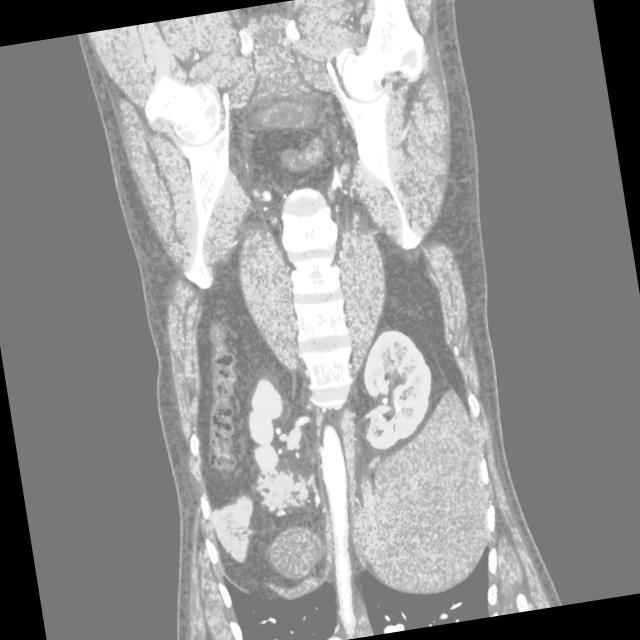NORMAL: (52, 36, 572, 633)
